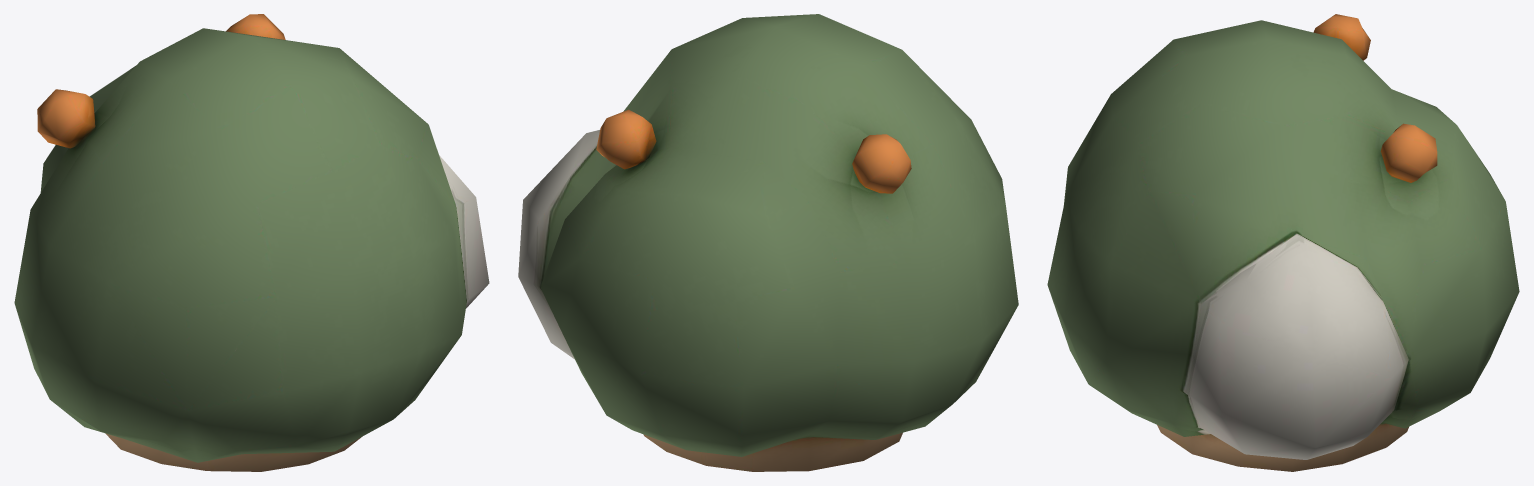
Rendered from bush-02.glb.
3 renders of one model, left to right at view 1: azimuth 30°, elevation 25°; view 2: azimuth 150°, elevation 25°; view 3: azimuth 270°, elevation 25°, orthographic. The views are drawn at different scales.
Parts seen in each view (by area): view 1: tripo_node_6fea769b-02e9-457c-9222-a488ca572810; view 2: tripo_node_6fea769b-02e9-457c-9222-a488ca572810; view 3: tripo_node_6fea769b-02e9-457c-9222-a488ca572810.
Boxes of the visible parts, <box> form: tripo_node_6fea769b-02e9-457c-9222-a488ca572810: <box>14,14,489,471</box>; tripo_node_6fea769b-02e9-457c-9222-a488ca572810: <box>518,14,1018,471</box>; tripo_node_6fea769b-02e9-457c-9222-a488ca572810: <box>1047,14,1519,471</box>.
Size of the model in its own units: 0.998 by 0.8262 by 0.9434.
1 material, 1 textured.
